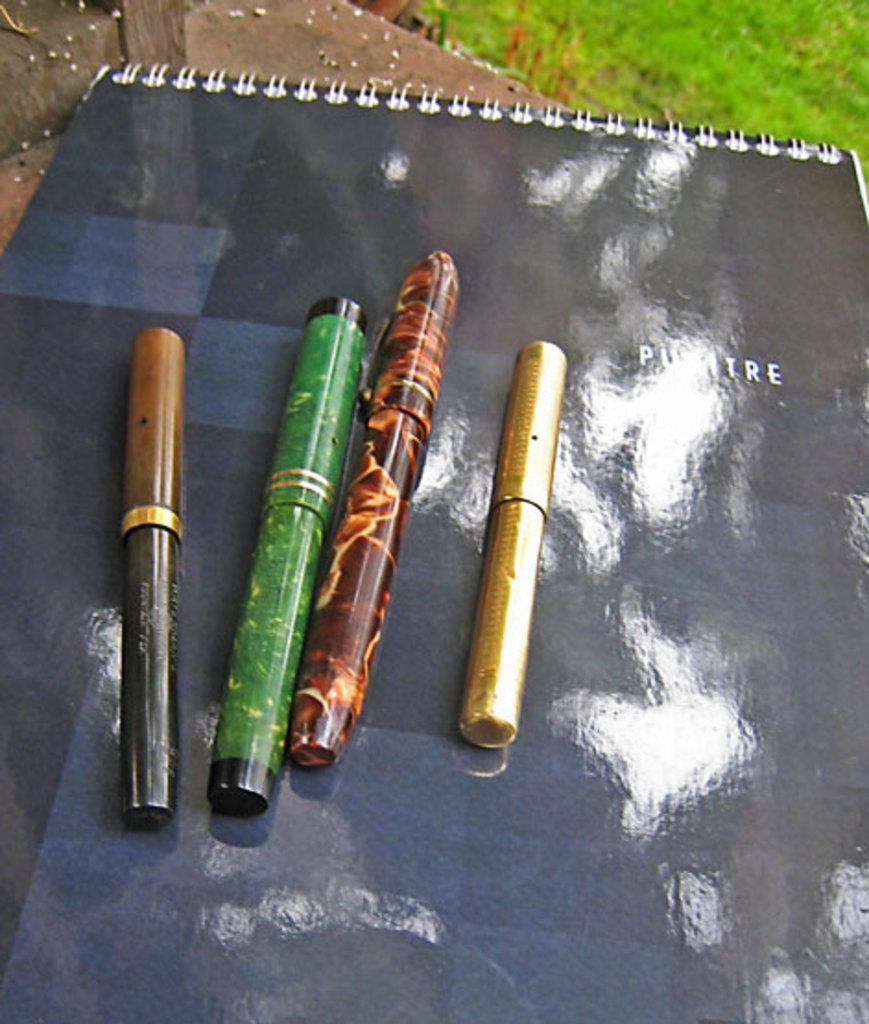pen: (273, 247, 459, 768), (203, 297, 367, 823), (458, 339, 581, 753), (111, 323, 194, 841)
